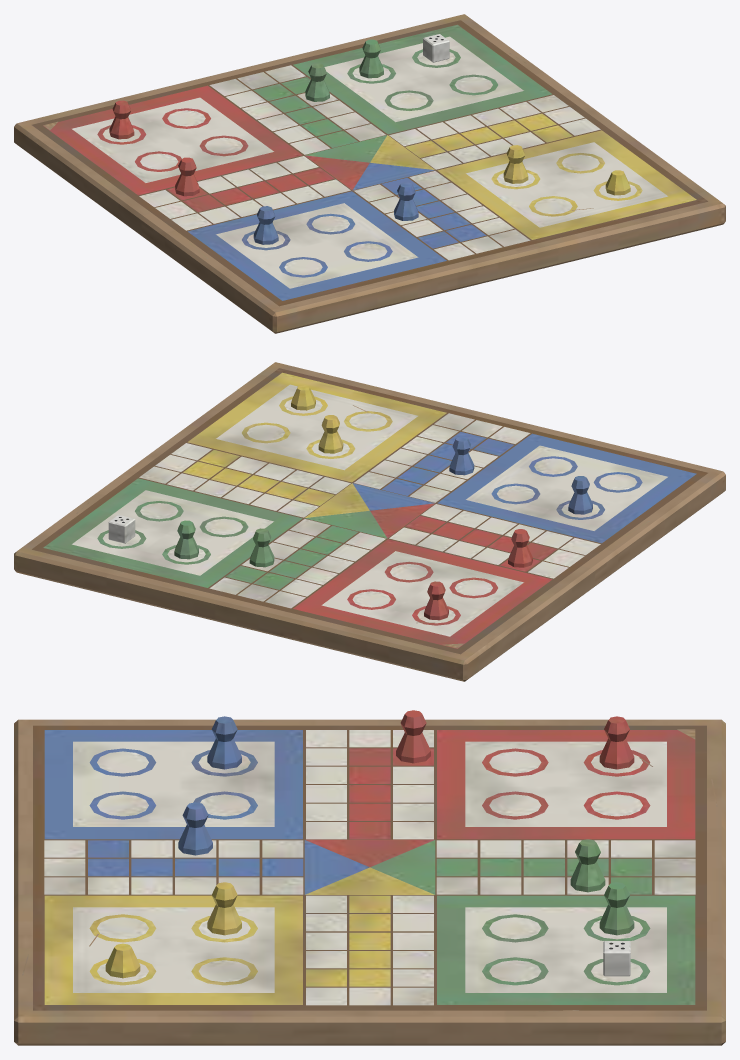
Rendered from SP06_ludo_board.glb.
3 renders of one model, top to bottom at view 1: azimuth 30°, elevation 25°; view 2: azimuth 150°, elevation 25°; view 3: azimuth 270°, elevation 25°, orthographic. The views are drawn at different scales.
Parts seen in each view (by area): view 1: Worn wooden board; view 2: Worn wooden board; view 3: Worn wooden board.
Boxes of the visible parts, bbox=[...] form: Worn wooden board: bbox=[14, 14, 725, 333]; Worn wooden board: bbox=[14, 362, 725, 681]; Worn wooden board: bbox=[14, 710, 725, 1045].
Bounding box in the file's own units: 0.5 × 0.0563 × 0.5.
9 materials, 9 textured.
